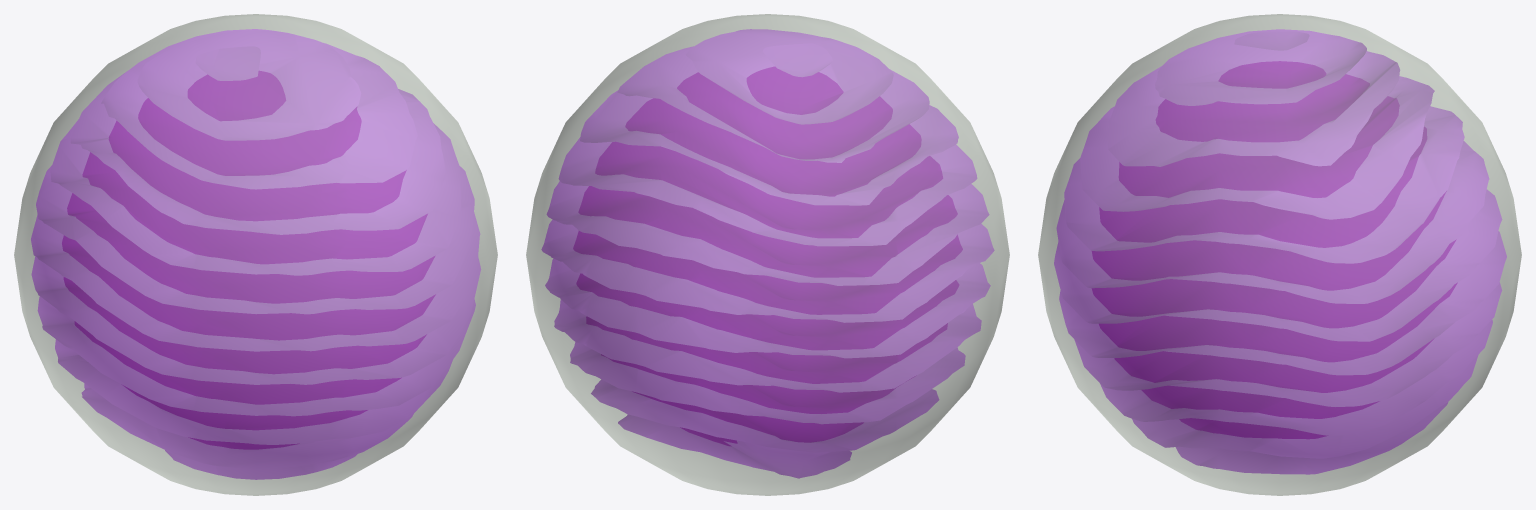
Rendered from Layers - violet.fbx.
3 renders of one model, left to right at view 1: azimuth 30°, elevation 25°; view 2: azimuth 150°, elevation 25°; view 3: azimuth 270°, elevation 25°, orthographic.
Parts seen in each view (by area): view 1: SketchUp; view 2: SketchUp; view 3: SketchUp.
Part boxes in pixels (x1,y1,x2,y2): SketchUp: [14, 14, 497, 495]; SketchUp: [526, 14, 1009, 495]; SketchUp: [1038, 14, 1521, 495].
Size of the model in its own units: 100 by 100 by 100.
